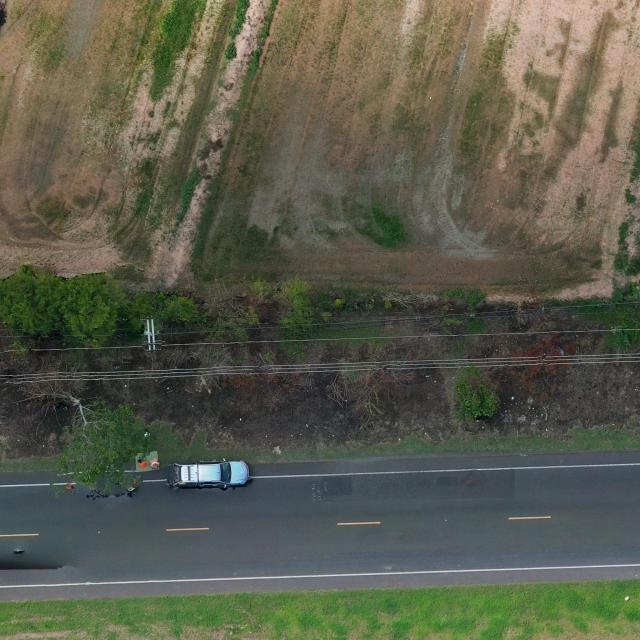Tree: (50, 399, 150, 500), (0, 264, 65, 338), (64, 272, 128, 347), (455, 364, 502, 419), (128, 290, 168, 333), (162, 294, 200, 324)
